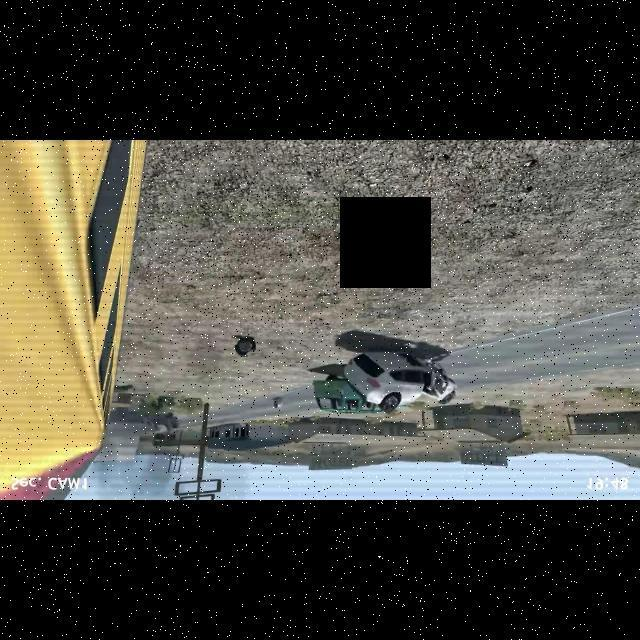severe: (337, 347, 462, 417)
